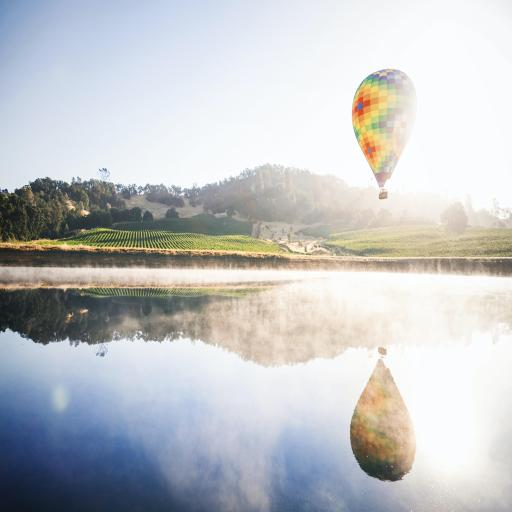hot air ballon: (349, 63, 418, 202)
